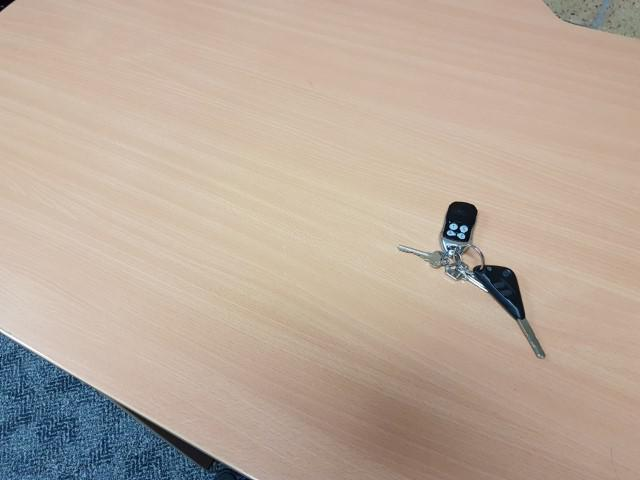key: (474, 263, 545, 358)
